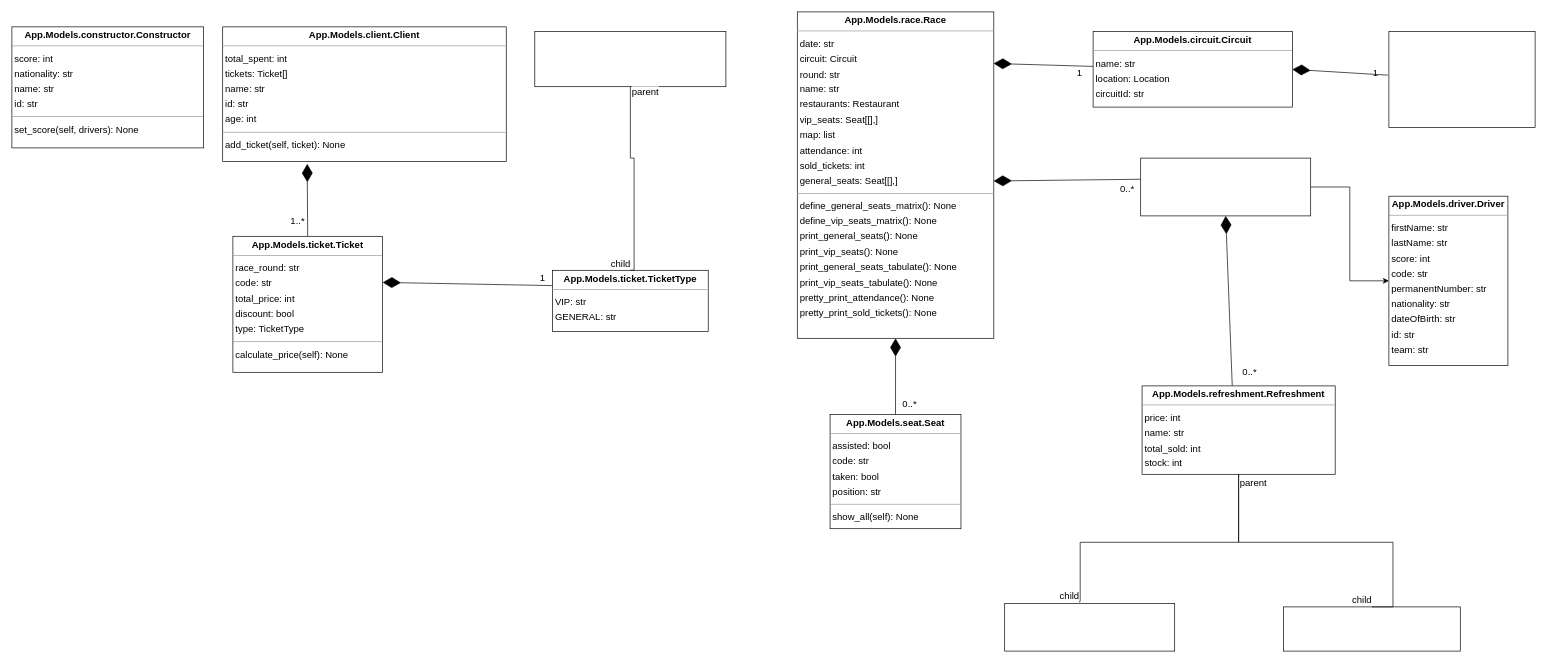
Some shapes in this 1547 by 663 pixel diagram are drawn without their labels. The shapes that lost their labels are listed below. From the top down, each one's centre as x and y in pixels, then its label:
At (x=630, y=59): "enum.Enum".
At (x=1461, y=79): "App.Models.location.Location country: str locality: str lat: str long: str".
At (x=1225, y=186): "App.Models.restaurant.Restaurant name: str items: Refreshment[]".
At (x=1089, y=627): "App.Models.refreshment.Food type: str".
At (x=1371, y=628): "App.Models.refreshment.Drink type: str".
